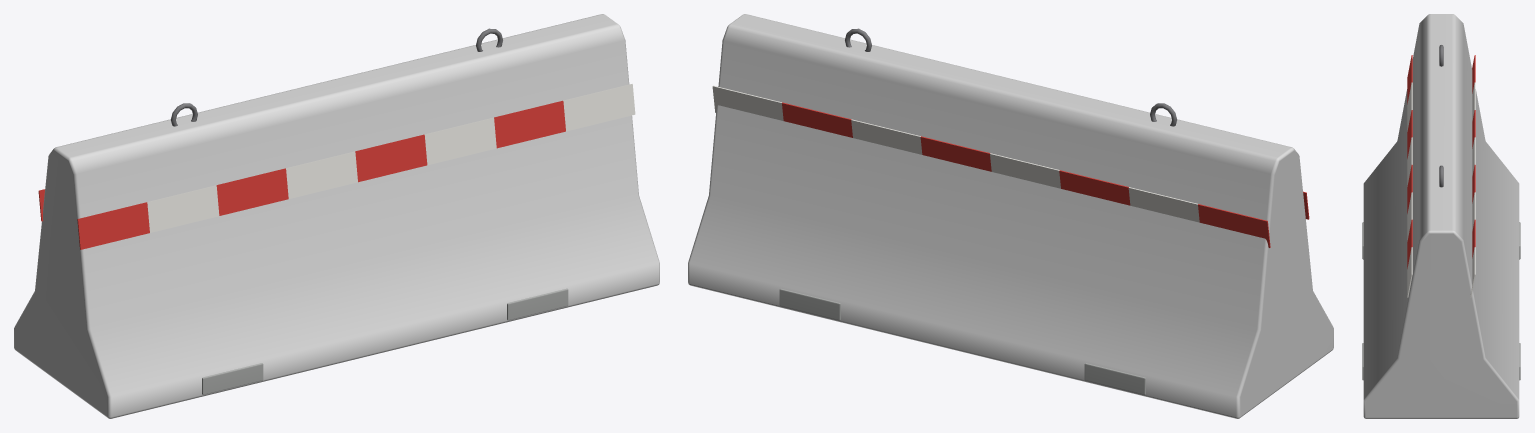
File: boundary.yard.wall_concrete.glb
3 renders of one model, left to right at view 1: azimuth 30°, elevation 25°; view 2: azimuth 150°, elevation 25°; view 3: azimuth 270°, elevation 25°, orthographic. The views are drawn at different scales.
Visible parts, largest first — view 1: main__concrete_fff, main__paint_d43, main__paint_eee, main__concrete_bbb; view 2: main__concrete_fff, main__paint_d43, main__paint_eee, main__concrete_bbb; view 3: main__concrete_fff, main__paint_eee, main__paint_d43, main__concrete_bbb, main__steel_777.
Part boxes in pixels (bbox=[...]): main__concrete_fff: bbox=[14, 14, 659, 418]; main__paint_d43: bbox=[38, 100, 565, 249]; main__paint_eee: bbox=[147, 84, 635, 232]; main__concrete_bbb: bbox=[202, 288, 568, 394]; main__concrete_fff: bbox=[688, 14, 1333, 418]; main__paint_d43: bbox=[782, 102, 1309, 247]; main__paint_eee: bbox=[712, 85, 1199, 222]; main__concrete_bbb: bbox=[779, 288, 1145, 394]; main__concrete_fff: bbox=[1363, 14, 1519, 418]; main__paint_eee: bbox=[1407, 82, 1475, 297]; main__paint_d43: bbox=[1407, 55, 1475, 268]; main__concrete_bbb: bbox=[1362, 222, 1520, 380]; main__steel_777: bbox=[1439, 45, 1443, 187].
Size of the model in its own units: 2 by 0.868 by 0.61.
